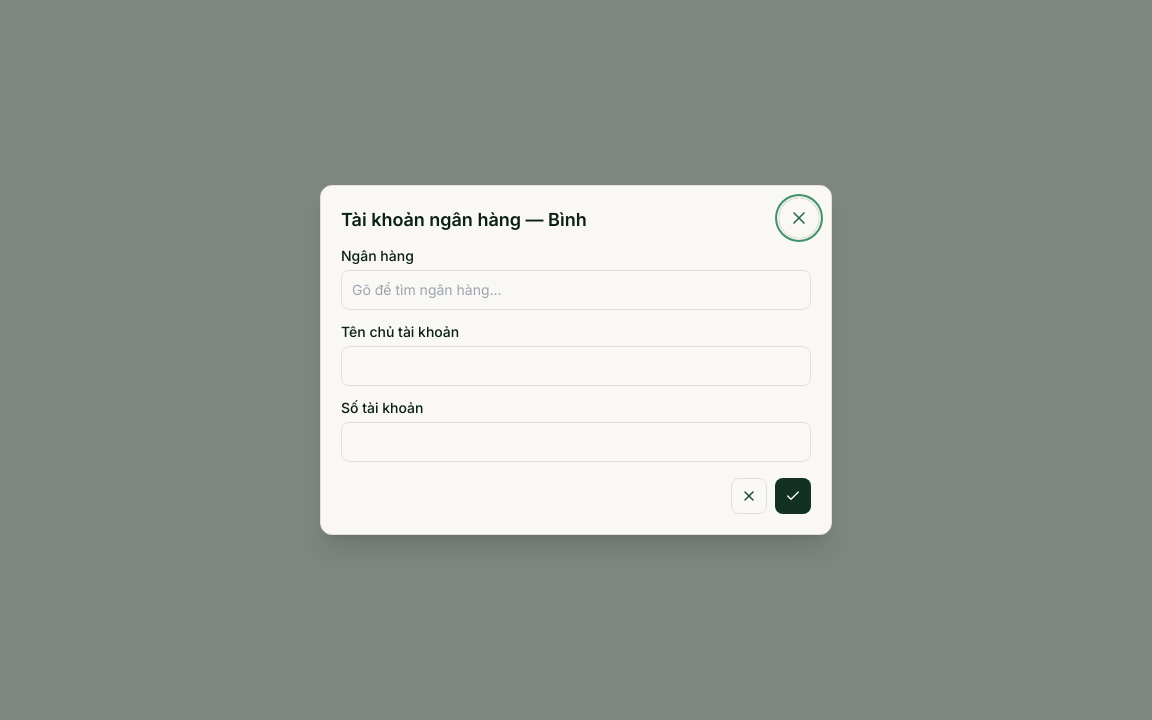
MemberBankDialog › báo lỗi khi chưa chọn ngân hàng
Type "BINH" into the field labelled "Tên chủ tài khoản". click: (576, 366)
box: 341,346 -> 811,386
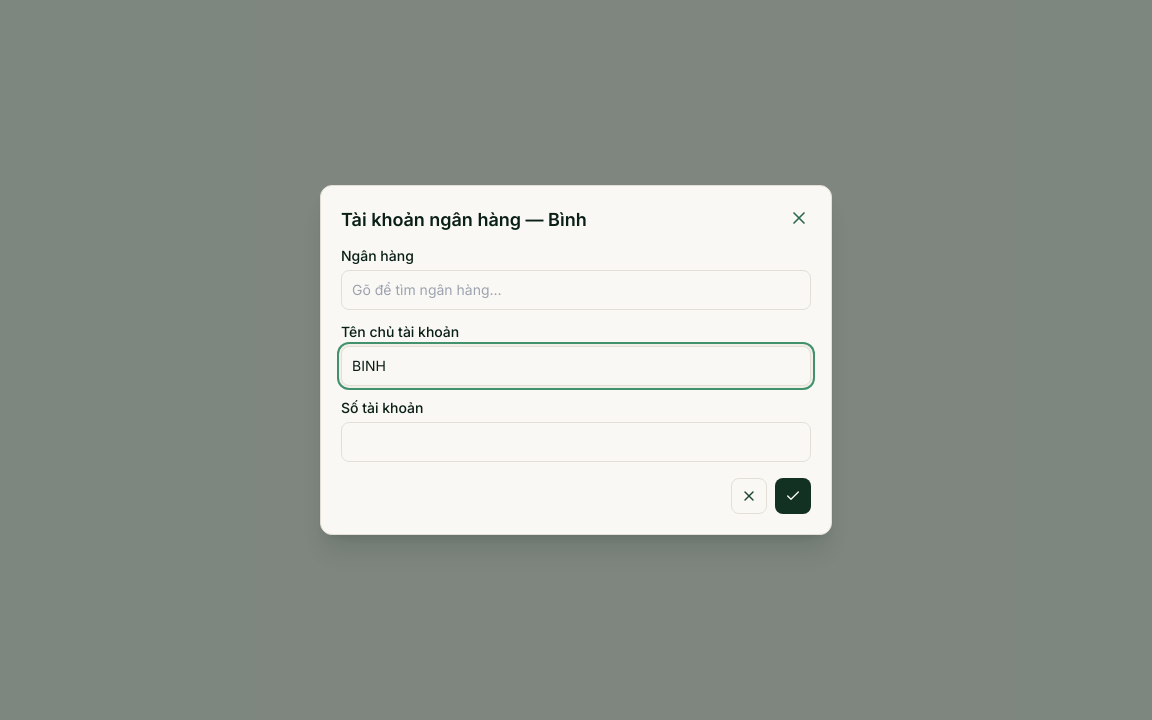
Type "123456789" into the field labelled "Số tài khoản". click: (576, 442)
box: 341,422 -> 811,462
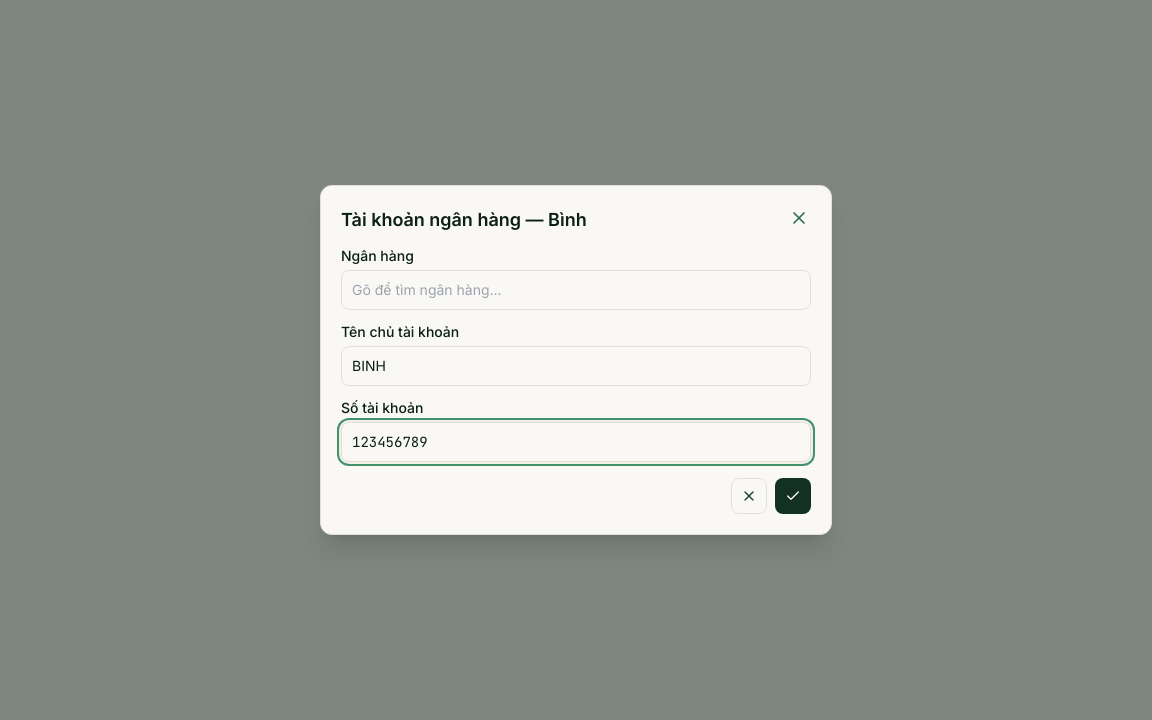
Click the button named "Lưu tài khoản". click: (793, 496)
box: 775,478 -> 811,514
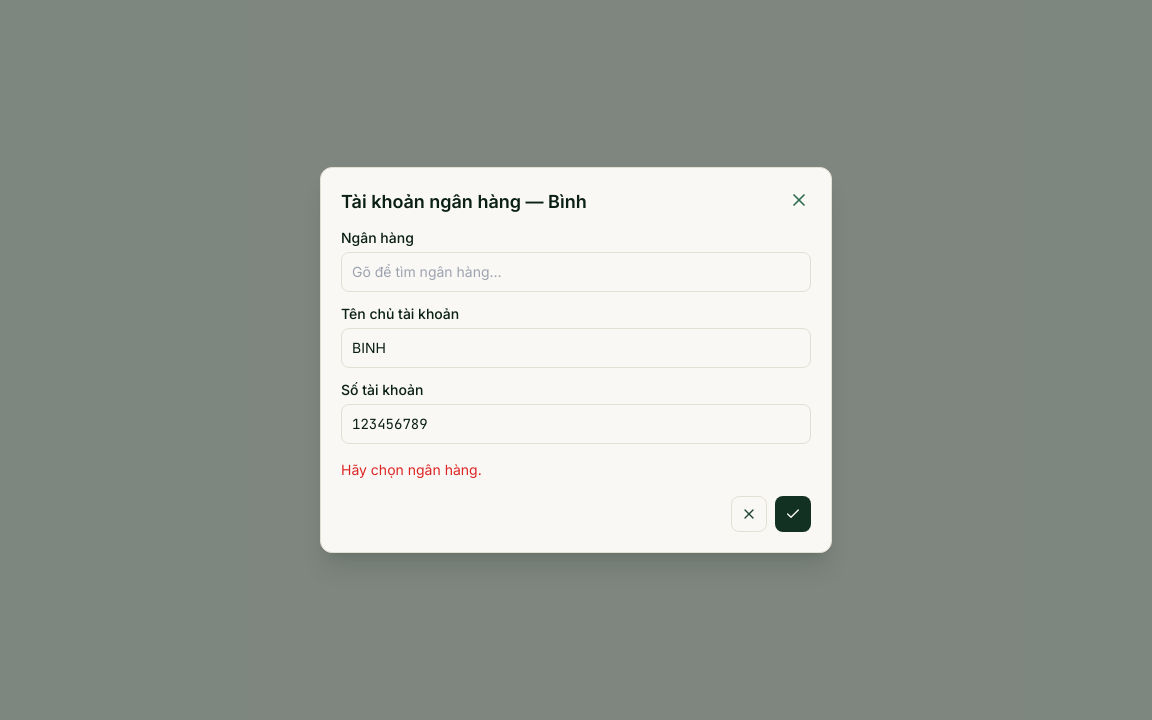
Result: the message reads "Hãy chọn ngân hàng." at 341,461 -> 482,478
